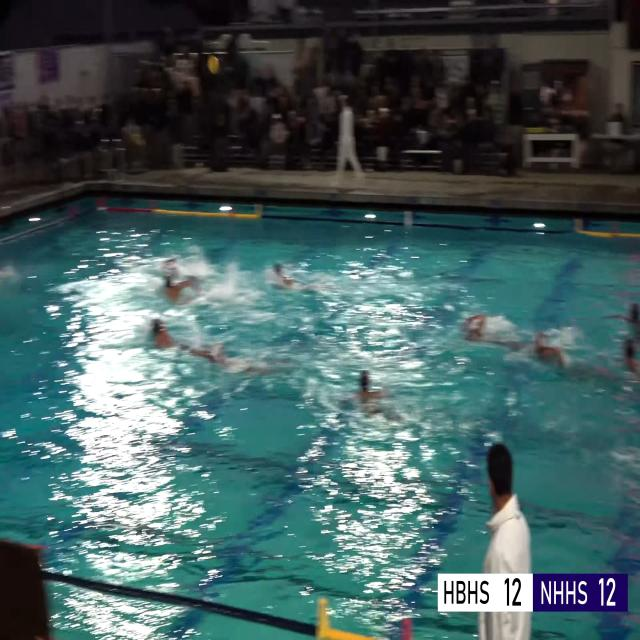ball: (208, 55, 219, 74)
